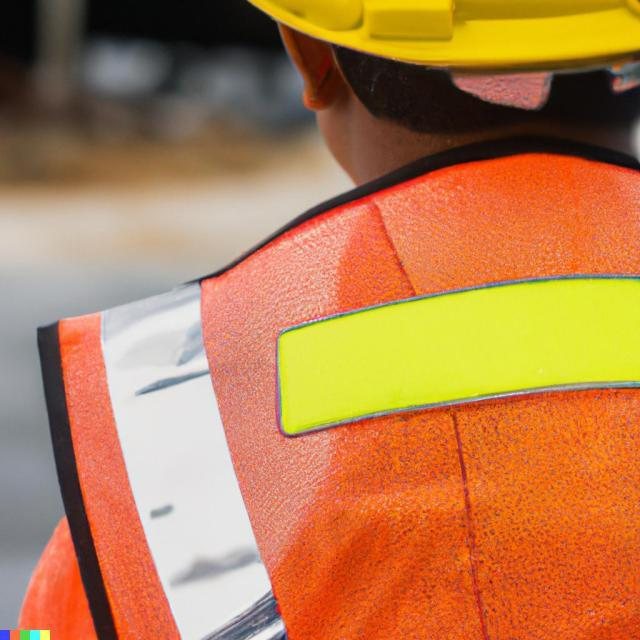reflective_jacket: (7, 122, 639, 625)
safety_helmet: (237, 1, 639, 82)
